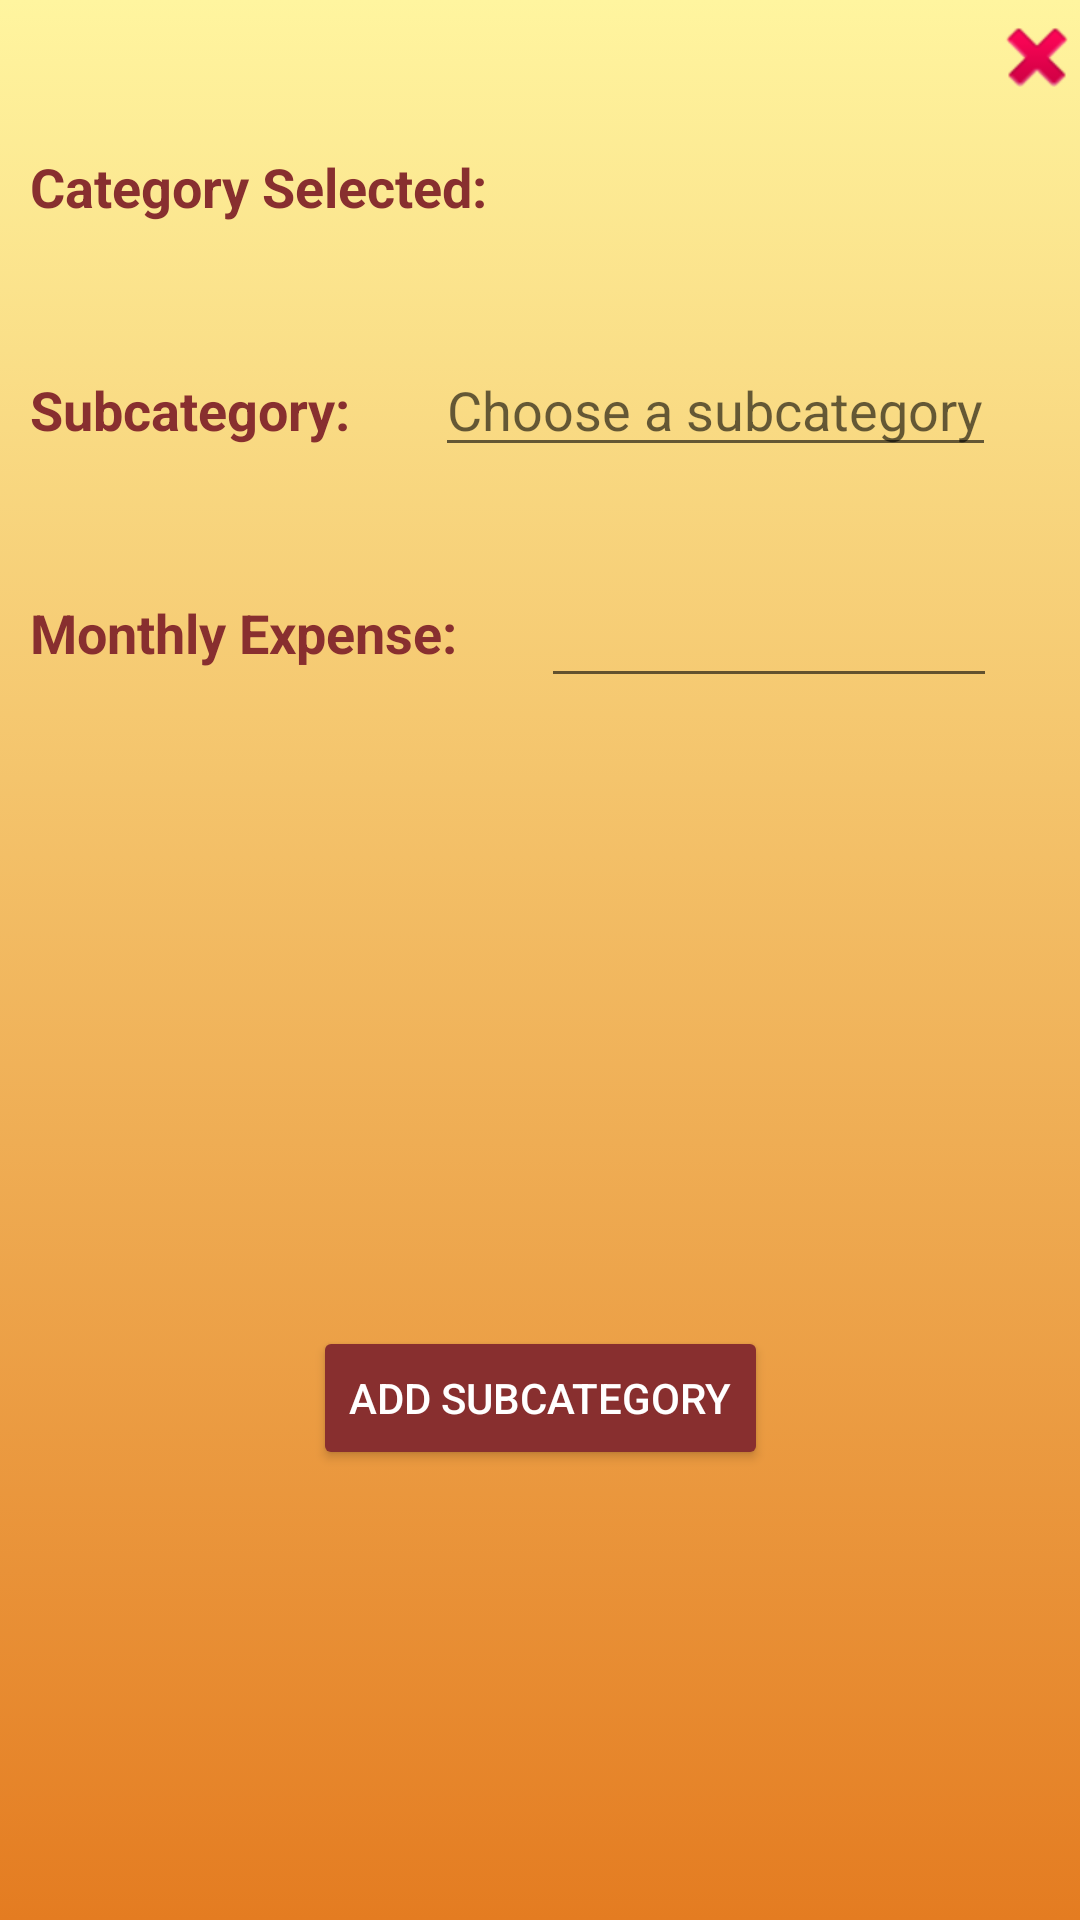

Screen size 1080 x 1920. Icon name, then its center in pixels as [x,y]:
delete: [1037,57]
